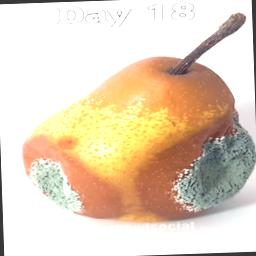Pear Rotten: (18, 8, 256, 229)
